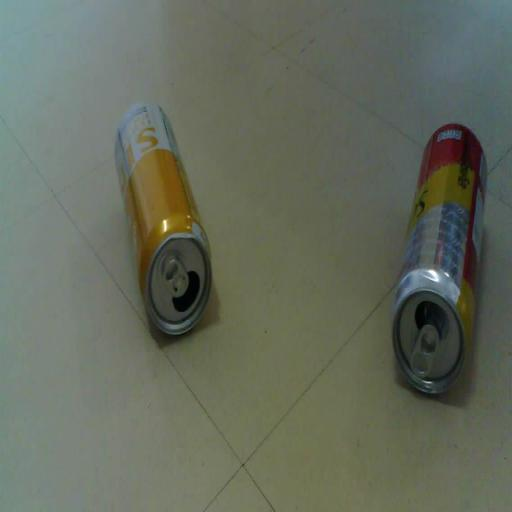canned: (375, 113, 497, 419), (104, 89, 222, 352)
